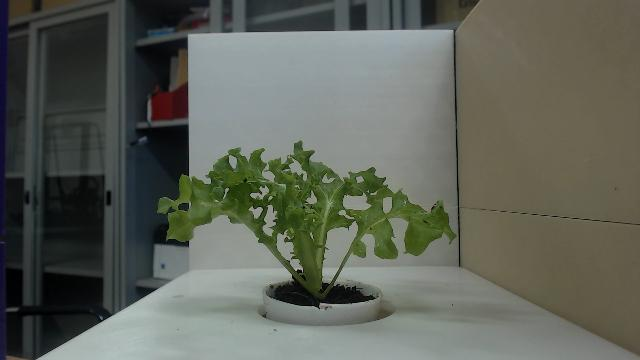Vegetative Stage: (154, 139, 458, 301)
